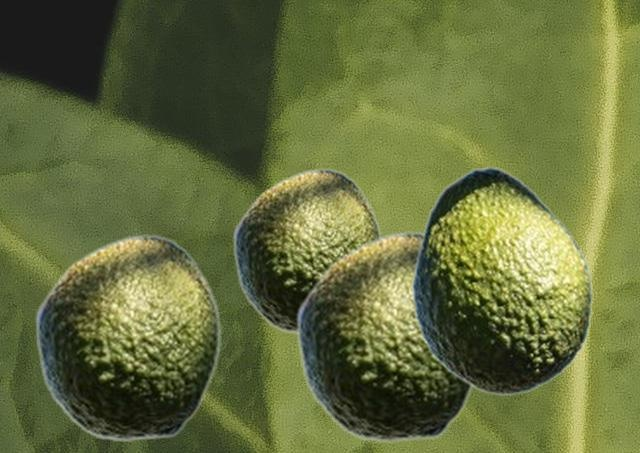avocado: (410, 166, 592, 395), (34, 234, 220, 440), (295, 231, 475, 441), (232, 168, 381, 333)
